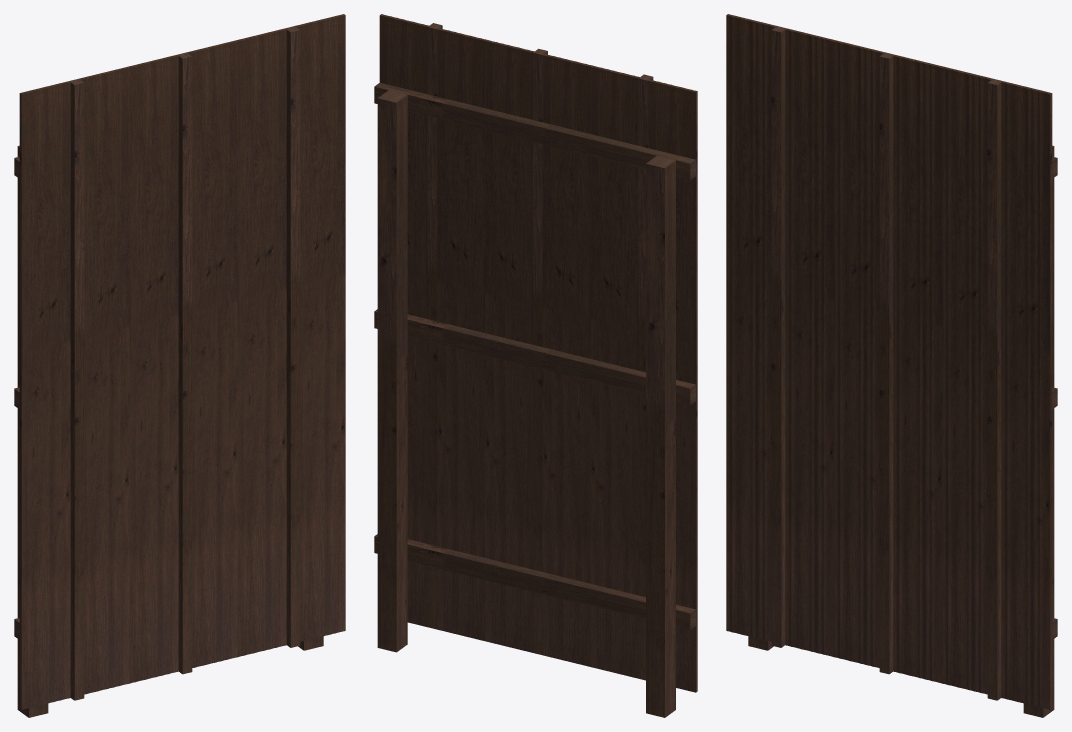
File: kodawari-roji_h1800_darkpine.fbx
The picture shows the model from 3 angles, left to right: view 1: azimuth 30°, elevation 25°; view 2: azimuth 150°, elevation 25°; view 3: azimuth 330°, elevation 25°; orthographic projection. The views are drawn at different scales.
Parts seen in each view (by area): view 1: kodawari-roji_h1800_darkpine; view 2: kodawari-roji_h1800_darkpine; view 3: kodawari-roji_h1800_darkpine.
Boxes of the visible parts, <box> form: kodawari-roji_h1800_darkpine: <box>14,14,345,717</box>; kodawari-roji_h1800_darkpine: <box>374,14,697,717</box>; kodawari-roji_h1800_darkpine: <box>726,14,1057,717</box>.
Size of the model in its own units: 99.3 by 185 by 12.
2 materials, 2 textured.
